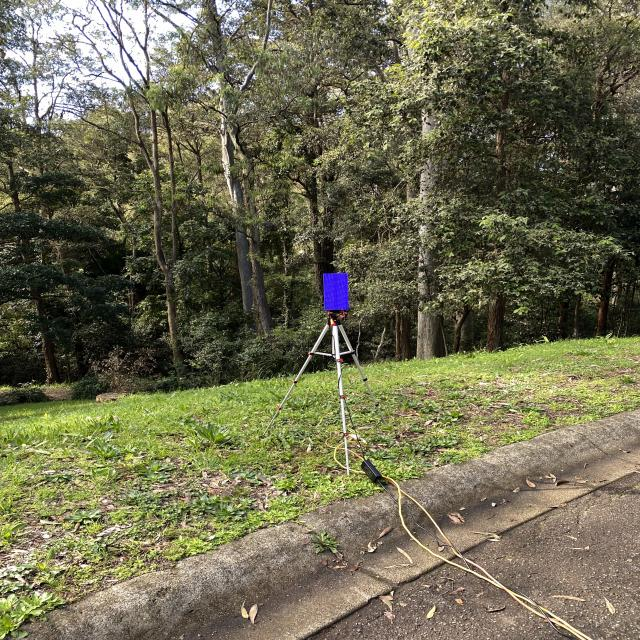matrix: (323, 272, 352, 313)
